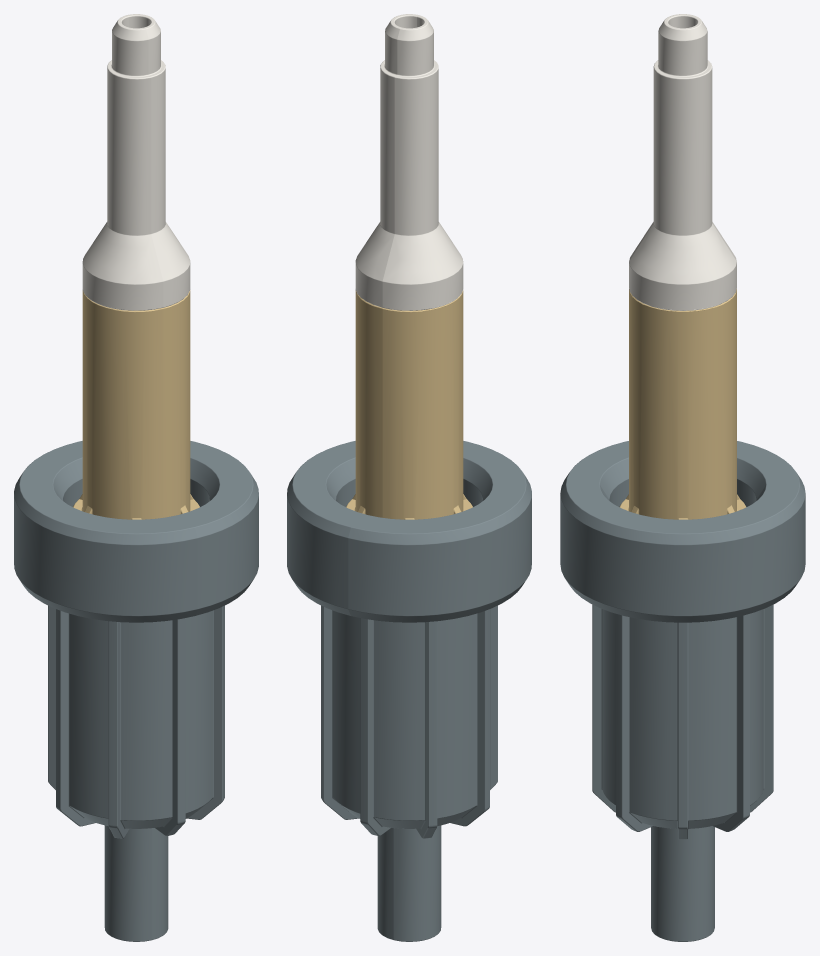
Rendered from veemap-consumer-pump.glb.
3 renders of one model, left to right at view 1: azimuth 30°, elevation 25°; view 2: azimuth 150°, elevation 25°; view 3: azimuth 270°, elevation 25°, orthographic.
Parts seen in each view (by area): view 1: empty_7, empty_6, empty_5; view 2: empty_7, empty_6, empty_5; view 3: empty_7, empty_6, empty_5.
Part boxes in pixels (x1,y1,x2,y2): empty_7: (14, 441, 258, 941); empty_6: (73, 290, 199, 519); empty_5: (82, 14, 190, 310); empty_7: (287, 441, 531, 941); empty_6: (346, 290, 472, 519); empty_5: (355, 14, 463, 310); empty_7: (560, 441, 805, 941); empty_6: (619, 289, 746, 519); empty_5: (629, 14, 736, 310).
Bounding box in the file's own units: 0.025 × 0.102 × 0.025.
